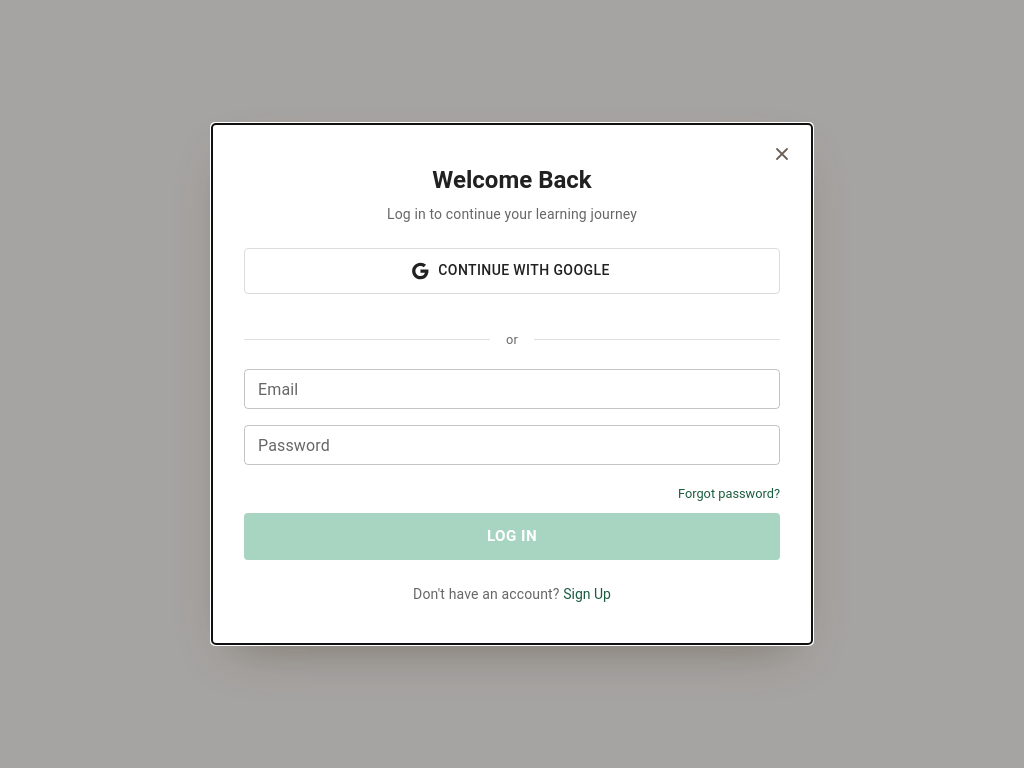
Test case: AuthModal — login mode › Log In button is disabled until email and password are valid
Expected: the button "Log In" is disabled, [244, 513, 780, 560]
In the field with placeholder "Email": (512, 389) [244, 369, 780, 409], type "user@example.com"
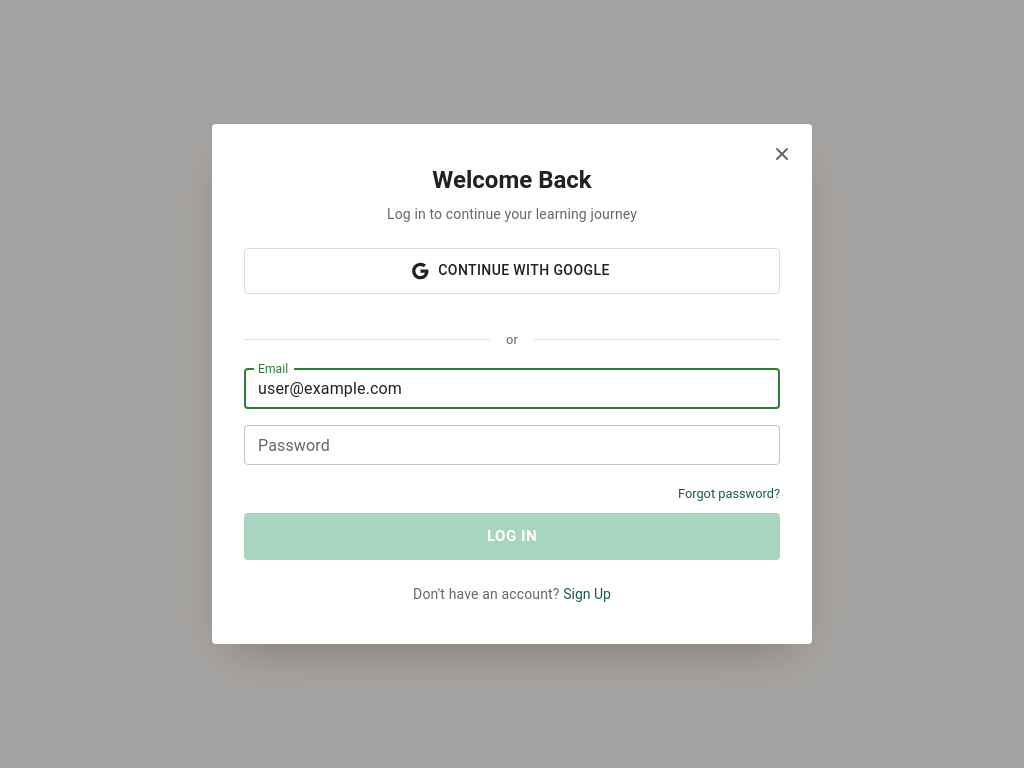
In the password field with placeholder "Password": (512, 445) [244, 425, 780, 465], type "secret123"
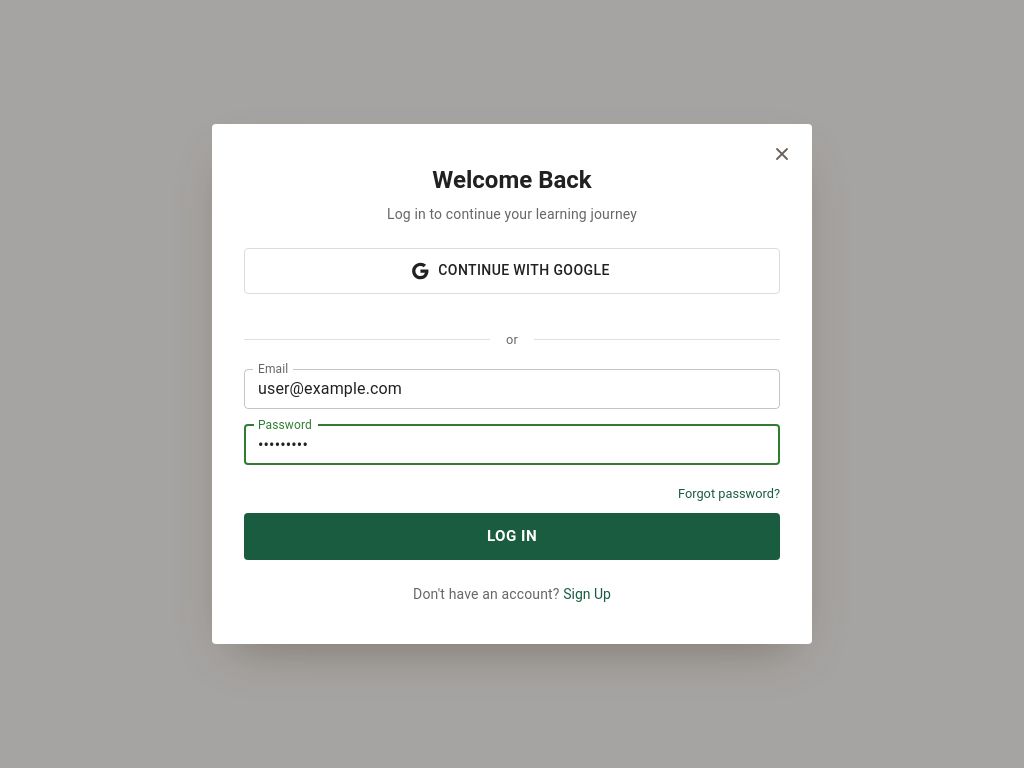
Now the button "Log In" is enabled, box [244, 513, 780, 560]
